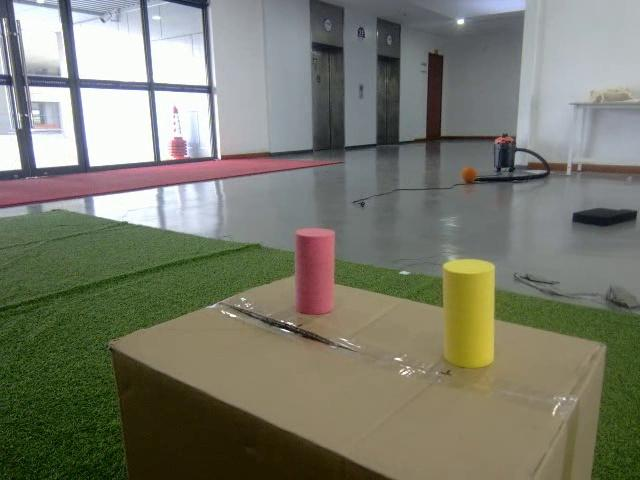red_cylinder: (291, 227, 342, 318)
yellow_cylinder: (442, 258, 498, 371)
